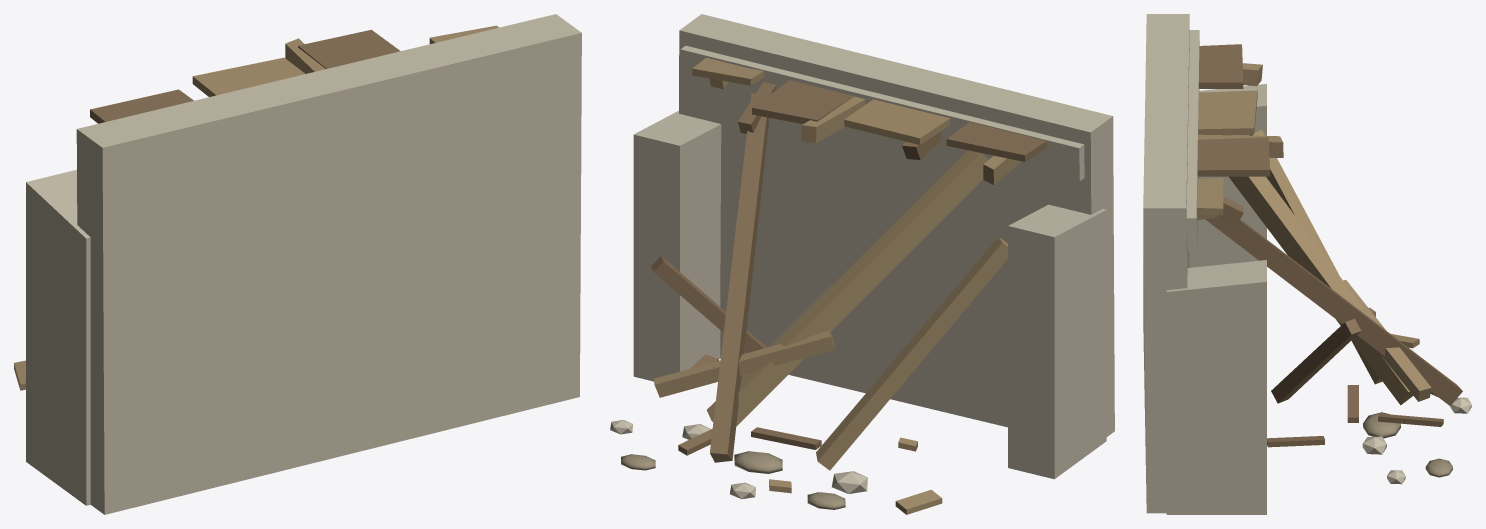
The model's file is collapsing_loft.glb.
3 views of the same model, side by side, from view 1: azimuth 30°, elevation 25°; view 2: azimuth 150°, elevation 25°; view 3: azimuth 270°, elevation 25° (orthographic). The views are drawn at different scales.
Visible parts, largest first — view 1: Loft_Stone, Loft_Remaining; view 2: Loft_Stone, Loft_FallenBeams, Loft_Remaining, Loft_Debris; view 3: Loft_Stone, Loft_FallenBeams, Loft_Remaining, Loft_Debris.
Boxes of the visible parts, left/top/right/bottom form: Loft_Stone: left=26, top=14, right=581, bottom=514; Loft_Remaining: left=90, top=25, right=498, bottom=123; Loft_Stone: left=633, top=14, right=1114, bottom=479; Loft_FallenBeams: left=651, top=93, right=1007, bottom=470; Loft_Remaining: left=692, top=57, right=1046, bottom=184; Loft_Debris: left=610, top=354, right=942, bottom=514; Loft_Stone: left=1143, top=14, right=1266, bottom=514; Loft_FallenBeams: left=1205, top=130, right=1462, bottom=406; Loft_Remaining: left=1197, top=44, right=1283, bottom=227; Loft_Debris: left=1267, top=307, right=1471, bottom=484.
Size of the model in its own units: 3.26 by 2.34 by 2.29.
